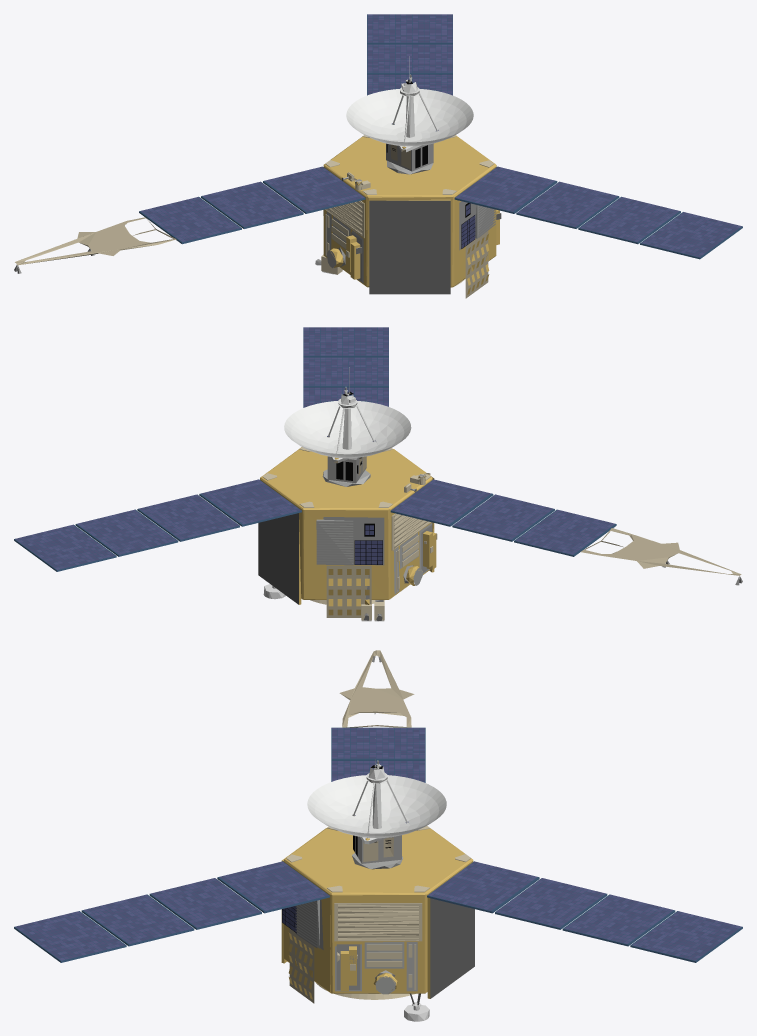
Rendered from nasa_juno.glb.
3 renders of one model, top to bottom at view 1: azimuth 30°, elevation 25°; view 2: azimuth 150°, elevation 25°; view 3: azimuth 270°, elevation 25°, orthographic. The views are drawn at different scales.
Parts seen in each view (by area): view 1: Layer_0; view 2: Layer_0; view 3: Layer_0.
Boxes of the visible parts, left/top/right/bottom form: Layer_0: left=14, top=14, right=742, bottom=298; Layer_0: left=14, top=327, right=742, bottom=621; Layer_0: left=14, top=650, right=742, bottom=1021.
Size of the model in its own units: 23.17 by 8.73 by 22.92.
Materials: 2 (2 with a texture image).
